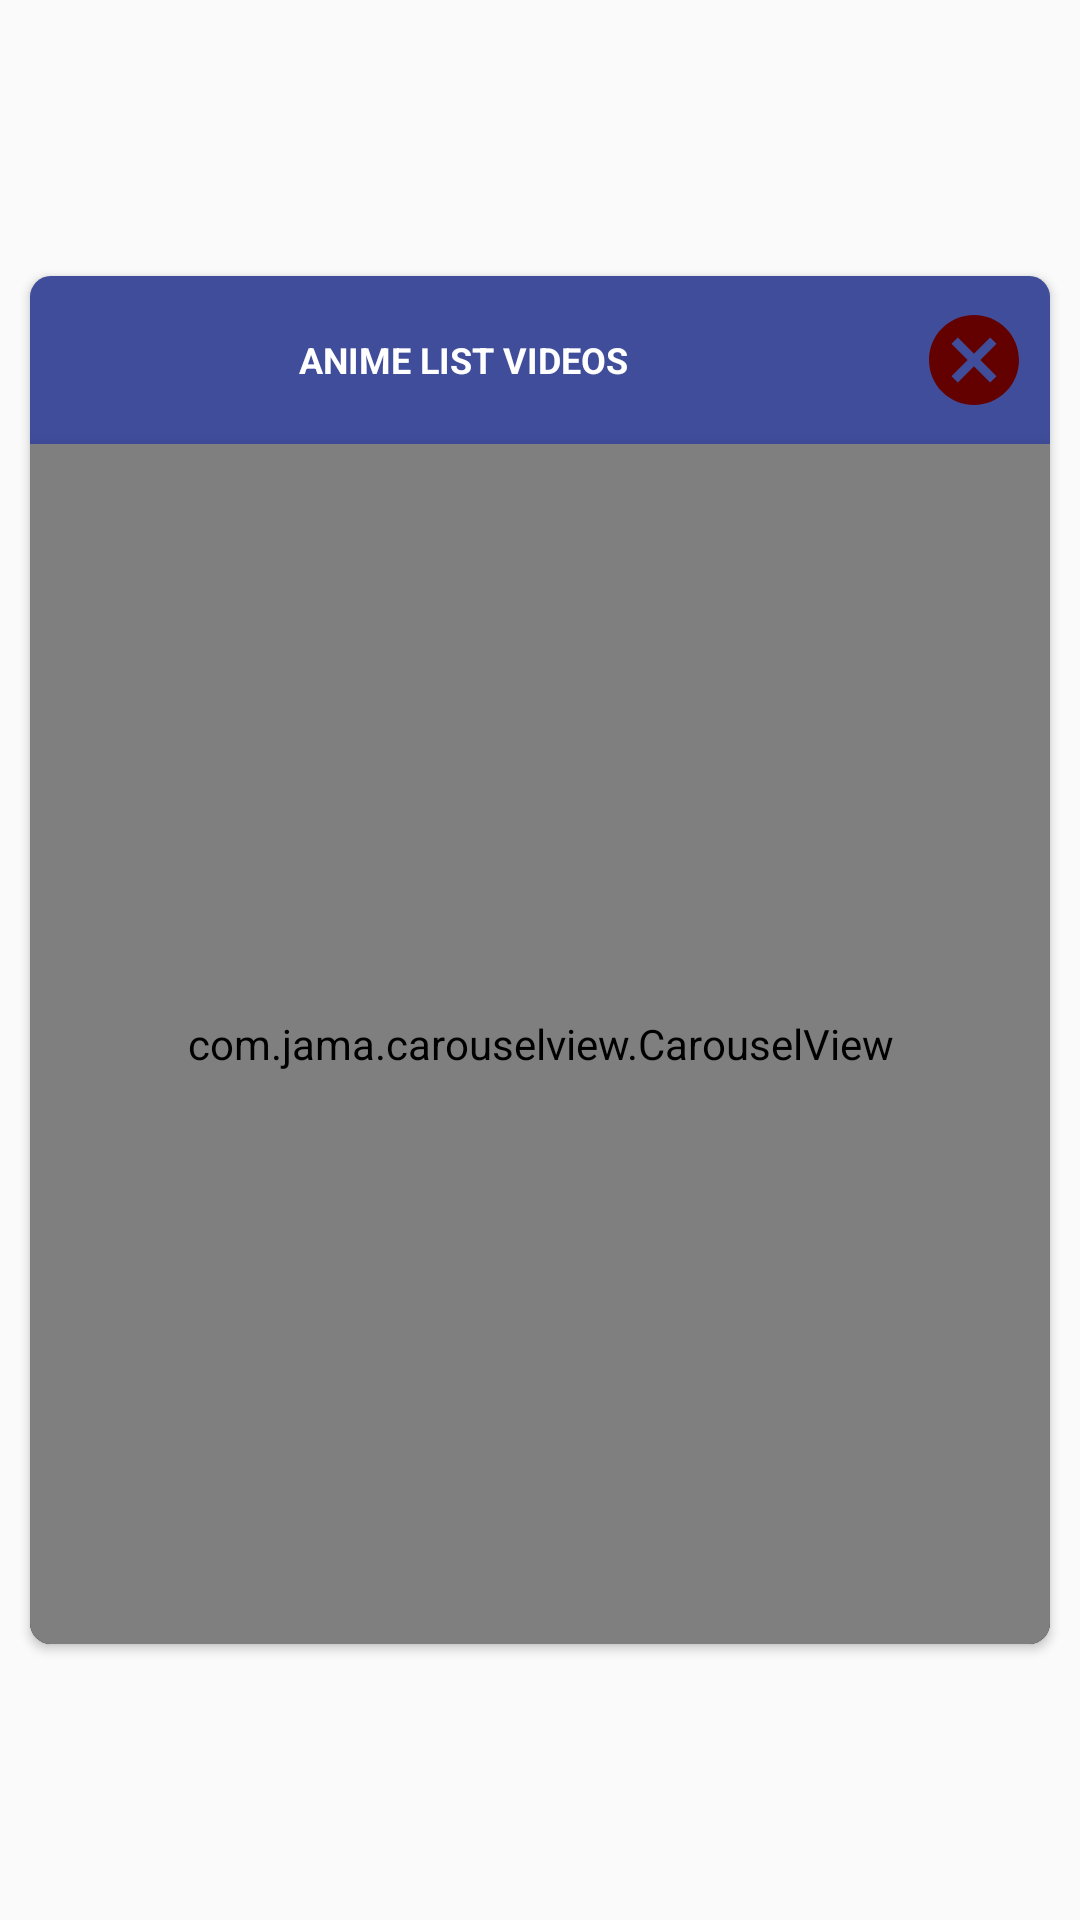

Point at icon controls on the screen. Image size 1080 × 1920, points as (x,y).
cancel: (974,360)
